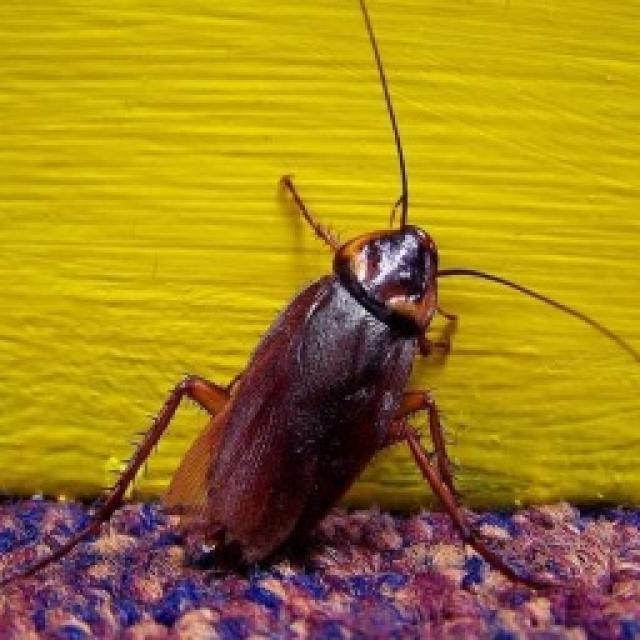cockroach: (179, 224, 443, 569)
